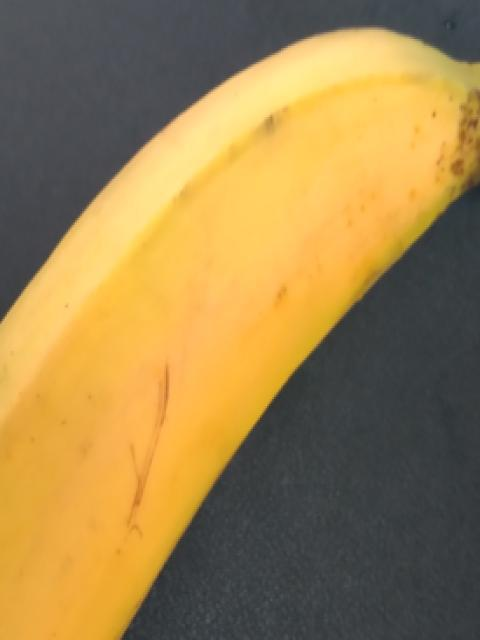freshripe: (0, 36, 469, 639)
